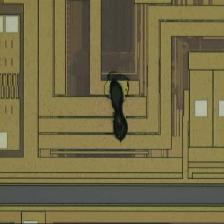PARTICLE: (102, 70, 131, 145)
